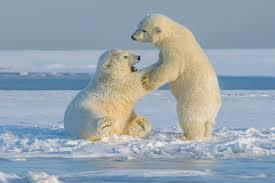Non_Gorille: (65, 9, 234, 146)
